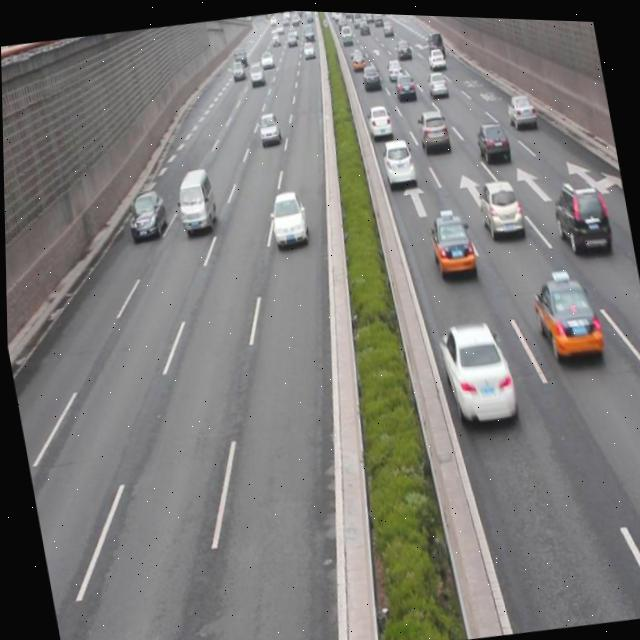car: (433, 312, 516, 428), (528, 268, 603, 361), (548, 172, 612, 254), (425, 206, 477, 278), (474, 172, 524, 240), (265, 186, 309, 248), (123, 186, 169, 243), (377, 131, 417, 189), (473, 115, 512, 164), (415, 103, 451, 153), (502, 85, 537, 129), (365, 100, 393, 138), (255, 108, 281, 146), (392, 67, 416, 100), (425, 66, 448, 96)
truck: (171, 164, 219, 235)
